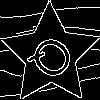Q: (25, 30, 84, 90)
